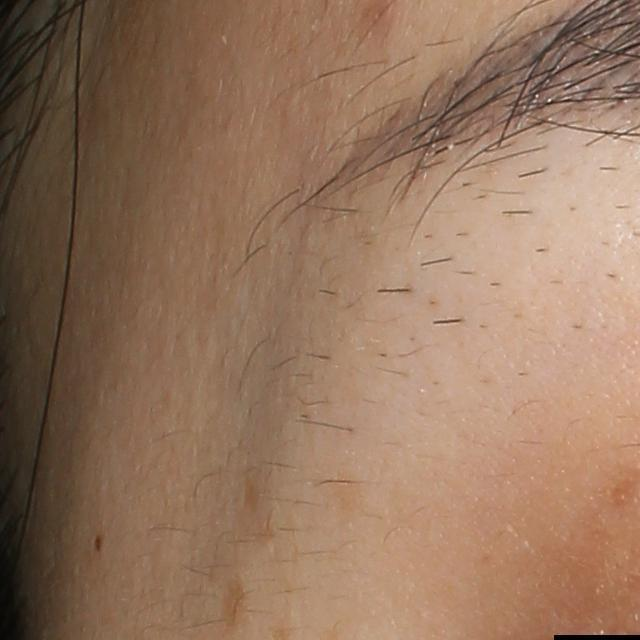melasma: (308, 458, 375, 534), (237, 470, 279, 558)
nevus: (90, 531, 103, 557)
